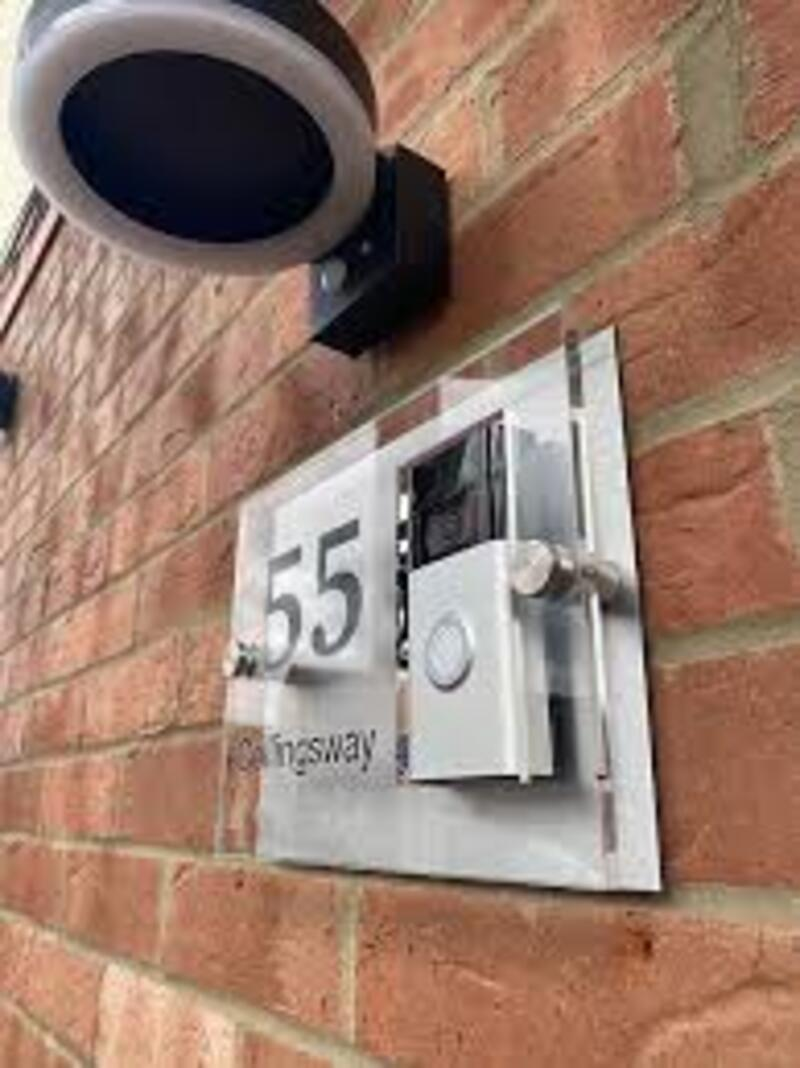doorbell: (394, 445, 575, 789)
